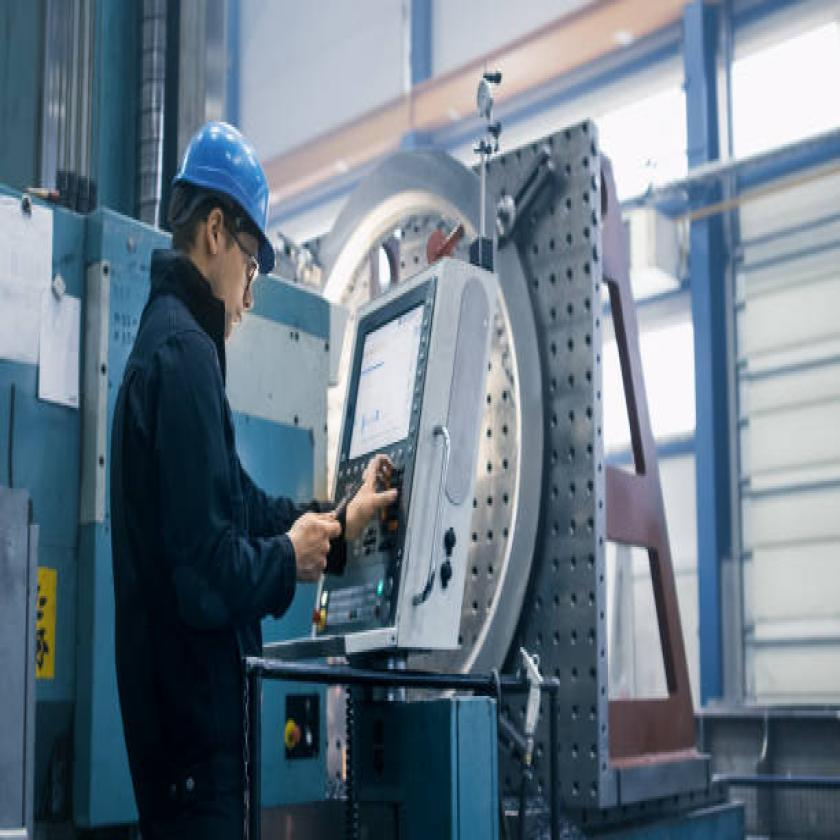Con_casco: (170, 121, 280, 350)
